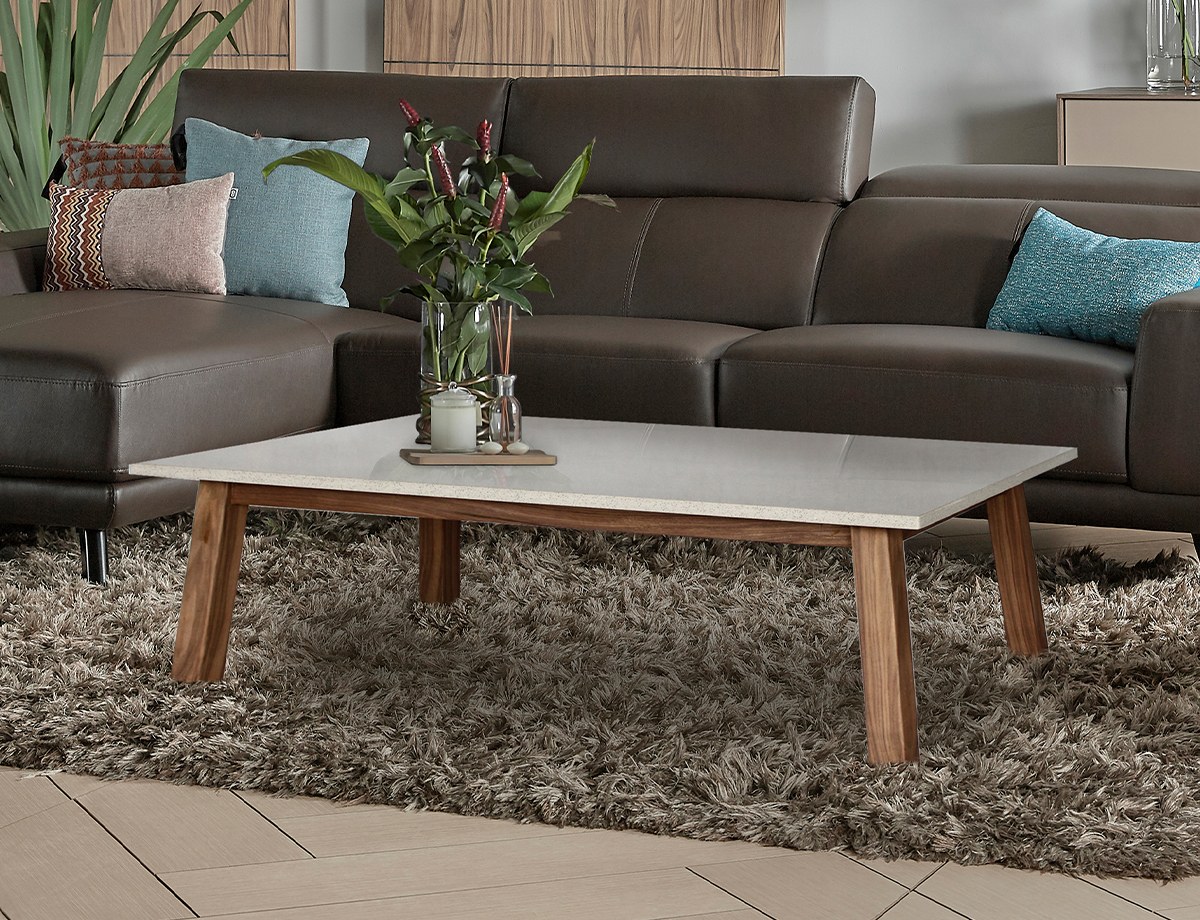meja: (122, 403, 1068, 757)
sova: (4, 59, 1200, 546)
